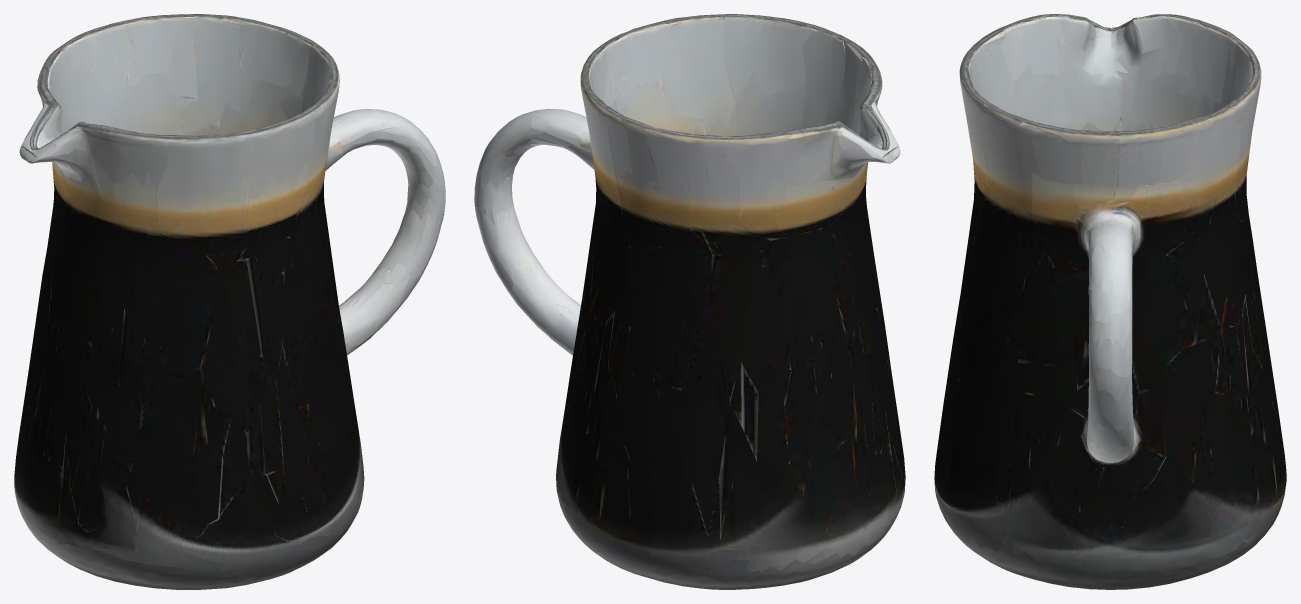
Rendered from bottle-espresso.glb.
The picture shows the model from 3 angles, left to right: view 1: azimuth 30°, elevation 25°; view 2: azimuth 150°, elevation 25°; view 3: azimuth 270°, elevation 25°; orthographic projection.
Size of the model in its own units: 1.81 by 1.9 by 1.31.
Materials: 1 (1 with a texture image).
